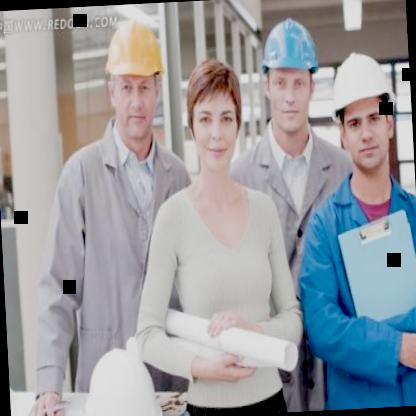helmet: (318, 36, 406, 188), (90, 5, 170, 155), (253, 0, 323, 142)
